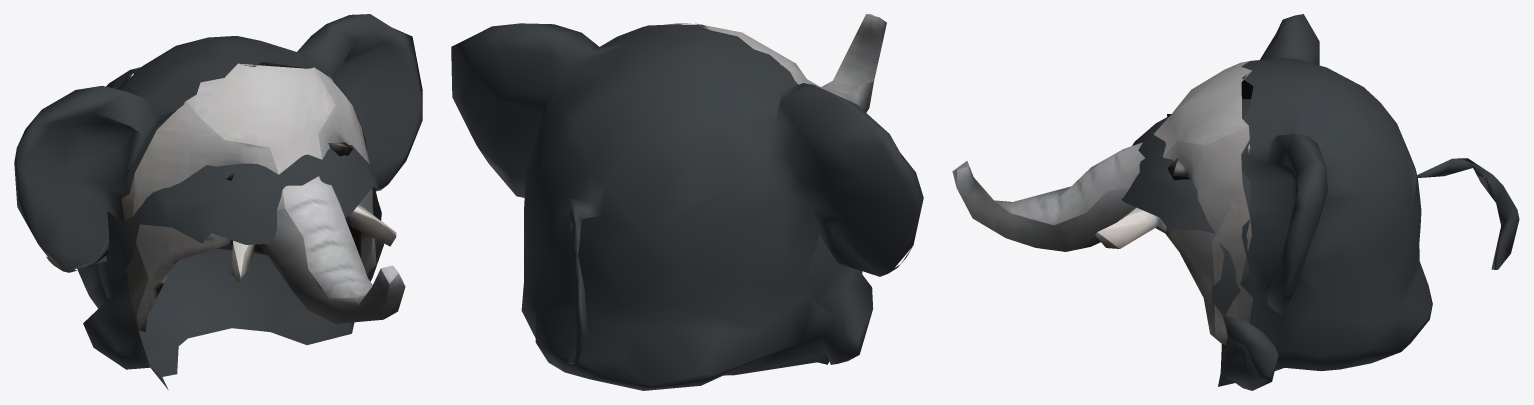
The model's file is elephant.glb.
The picture shows the model from 3 angles, left to right: view 1: azimuth 30°, elevation 25°; view 2: azimuth 150°, elevation 25°; view 3: azimuth 270°, elevation 25°; orthographic projection. The views are drawn at different scales.
Visible parts, largest first — view 1: geometry_0, HoodAnatomicalLining; view 2: geometry_0, HoodAnatomicalLining; view 3: geometry_0, HoodAnatomicalLining.
Boxes of the visible parts, x1,y1,x2,y2 form: geometry_0: [14, 14, 422, 332]; HoodAnatomicalLining: [83, 112, 383, 389]; geometry_0: [451, 14, 923, 390]; HoodAnatomicalLining: [724, 81, 873, 375]; geometry_0: [952, 14, 1519, 370]; HoodAnatomicalLining: [1121, 99, 1284, 390].
Bounding box in the file's own units: 0.7255 × 0.4935 × 0.8938.
2 materials, 1 textured.
